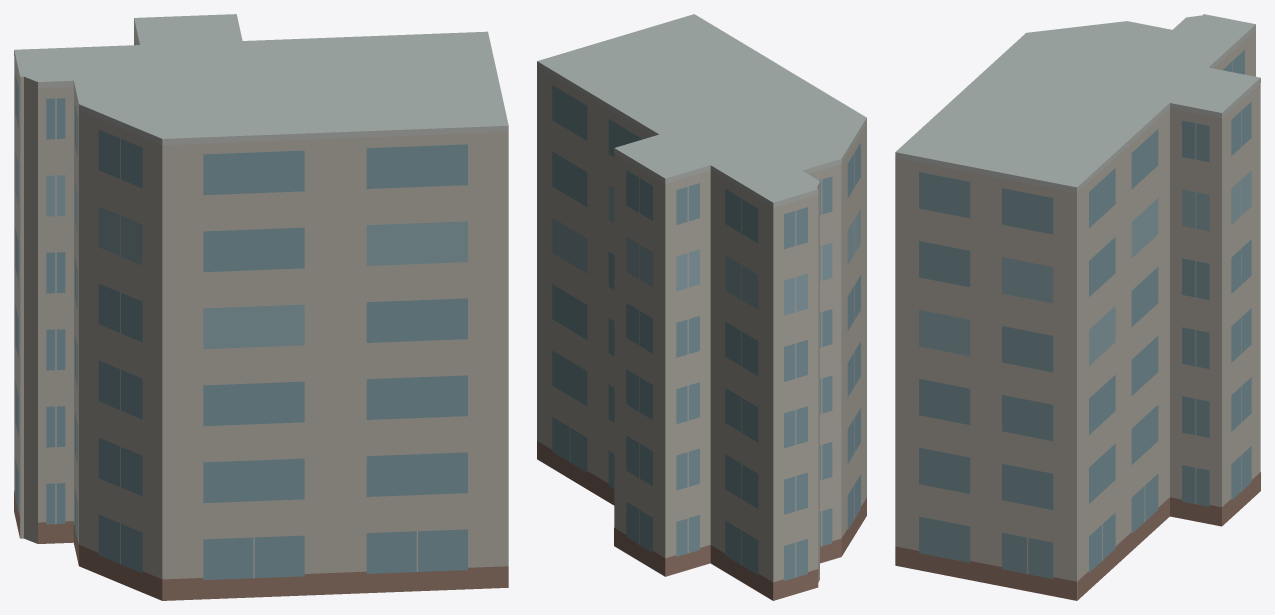
File: survey-upis-32845150.glb
The picture shows the model from 3 angles, left to right: view 1: azimuth 30°, elevation 25°; view 2: azimuth 150°, elevation 25°; view 3: azimuth 270°, elevation 25°; orthographic projection. The views are drawn at different scales.
Parts seen in each view (by area): view 1: survey-upis-32845150.tmp; view 2: survey-upis-32845150.tmp; view 3: survey-upis-32845150.tmp.
Boxes of the visible parts, x1,y1,x2,y2 form: survey-upis-32845150.tmp: [14, 14, 508, 600]; survey-upis-32845150.tmp: [537, 14, 866, 600]; survey-upis-32845150.tmp: [895, 14, 1260, 600].
Bounding box in the file's own units: 16.47 × 18.3 × 14.67.
